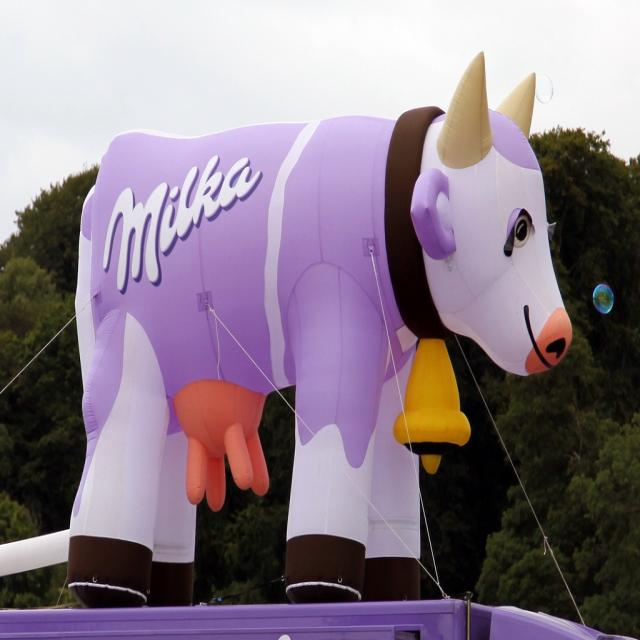milka: (97, 152, 267, 296)
